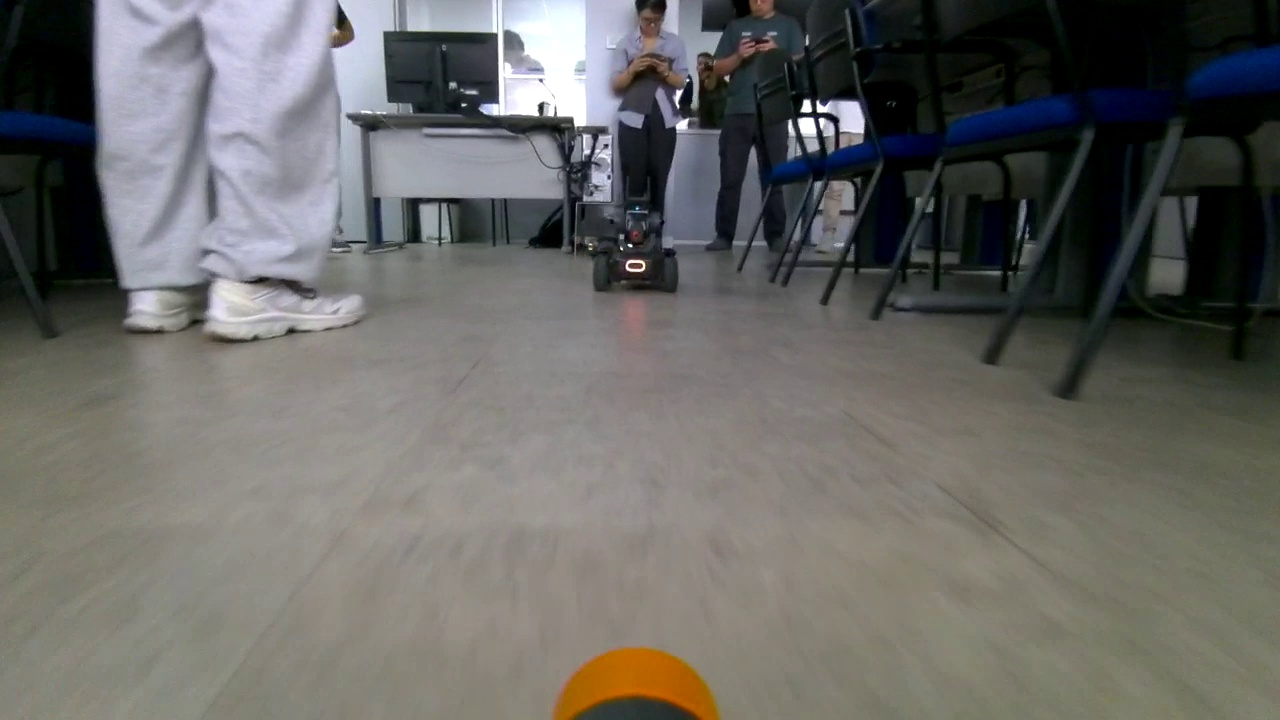robot: (585, 176, 682, 301)
